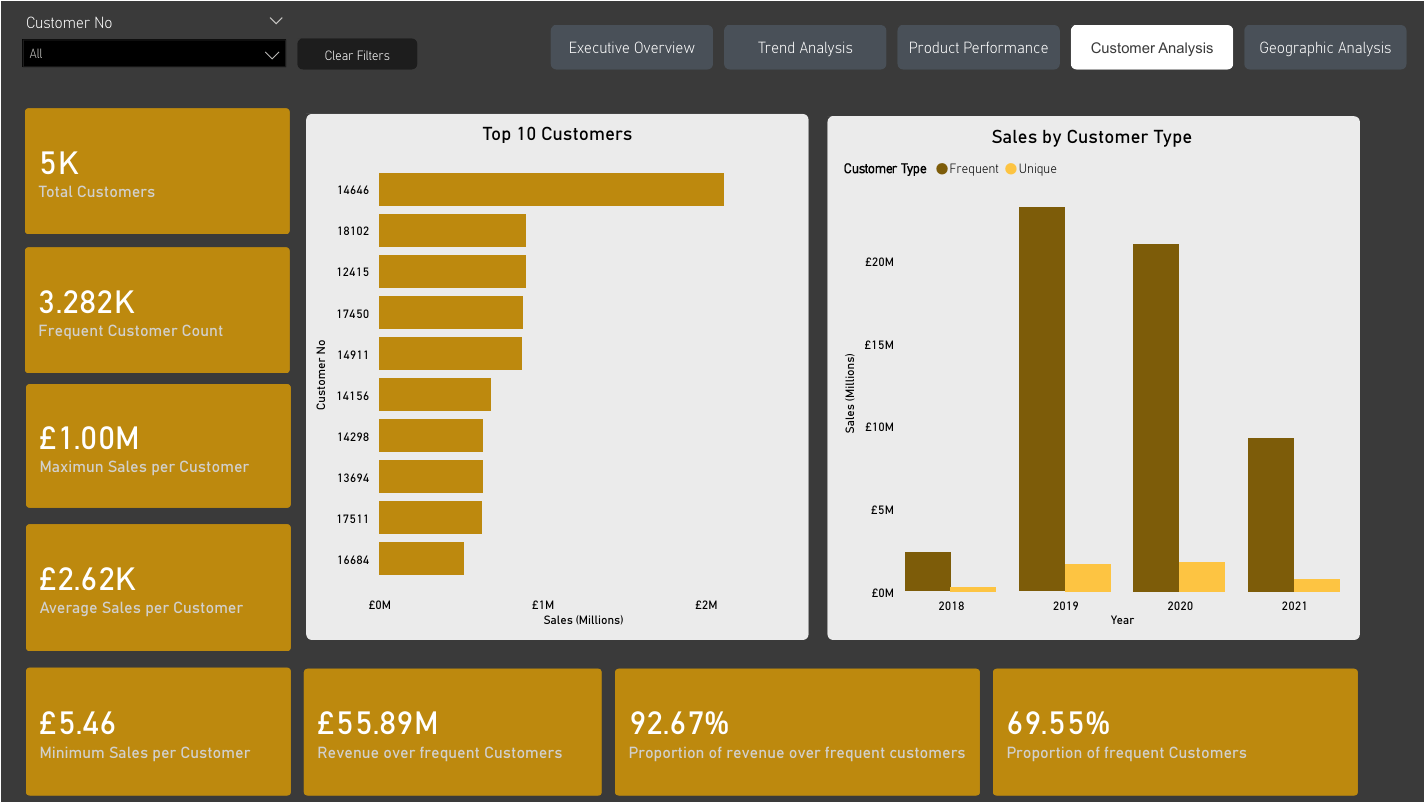

This screenshot's page, from the dashboard's own definition file:
{"tool":"powerbi","page":{"name":"Customer Analysis","canvas":[1280,720],"ordinal":3},"visuals":[{"type":"shape","box":[742.5,102.5,479.2,471.2],"z":0},{"type":"shape","box":[273.6,101.2,452.5,472.7],"z":1000},{"type":"cardVisual","fields":{"Data":["Date.Average Sales from Customer"]},"box":[16.2,463.8,250,126.2],"z":2000},{"type":"slicer","fields":{"Values":["Sales.CustomerNo"]},"box":[8.6,5.7,257.1,72.9],"z":3000},{"type":"cardVisual","fields":{"Data":["Date.Maximun Sales from Customer"]},"box":[16.2,337.5,250,123.8],"z":4000},{"type":"cardVisual","fields":{"Data":["Date.Minimum Sales per Customer"]},"box":[16.2,592.5,250,127.5],"z":5000},{"type":"cardVisual","fields":{"Data":["Date.Frequent Customer Count"]},"box":[15.4,215,249.4,124.7],"z":6000},{"type":"cardVisual","fields":{"Data":["Date.TotalCustomers"]},"box":[15.4,90.2,250,125],"z":7000},{"type":"cardVisual","fields":{"Data":["Date.Proportion of frequent Customers"]},"box":[886.2,593.8,340,126.2],"z":8000},{"type":"cardVisual","fields":{"Data":["Date.Revenue over frequent Customers"]},"box":[266,593.8,280.3,125.9],"z":9000},{"type":"cardVisual","fields":{"Data":["Date.Proportion of revenue over frequent customers"]},"box":[546.2,593.8,340,126.2],"z":10000},{"type":"ribbonChart","fields":{"Category":["Date.Date.Variation.Date Hierarchy.Year","Date.Date.Variation.Date Hierarchy.Quarter","Date.Date.Variation.Date Hierarchy.Month","Date.Date.Variation.Date Hierarchy.Day"],"Y":["Sum(Sales.Sales)"],"Series":["Customer.Customer Type"]},"box":[757.5,108.8,454.7,455],"z":11000},{"type":"clusteredBarChart","title":"Top 10 Customers","fields":{"Category":["Customer.CustomerNo"],"Y":["Sum(Sales.Sales)"]},"box":[277.2,108.3,445.4,458.4],"z":12000},{"type":"actionButton","box":[265.7,32.9,108.6,28.6],"z":13000},{"type":"pageNavigator","box":[493.8,21.2,770,40],"z":14000}]}

Visuals, with their boxes in screenshot pixels (x1, y1, x2, y2), scaled from the page's 1280x720 canvas onto the 1425x803 screenshot:
shape: crop(827, 114, 1360, 640)
shape: crop(305, 113, 808, 640)
cardVisual - Date.Average Sales from Customer: crop(18, 517, 296, 658)
slicer - Sales.CustomerNo: crop(10, 6, 296, 88)
cardVisual - Date.Maximun Sales from Customer: crop(18, 376, 296, 514)
cardVisual - Date.Minimum Sales per Customer: crop(18, 661, 296, 802)
cardVisual - Date.Frequent Customer Count: crop(17, 240, 295, 379)
cardVisual - Date.TotalCustomers: crop(17, 101, 295, 240)
cardVisual - Date.Proportion of frequent Customers: crop(987, 662, 1365, 802)
cardVisual - Date.Revenue over frequent Customers: crop(296, 662, 608, 802)
cardVisual - Date.Proportion of revenue over frequent customers: crop(608, 662, 987, 802)
ribbonChart - Date.Date.Variation.Date Hierarchy.Year x Date.Date.Variation.Date Hierarchy.Quarter: crop(843, 121, 1350, 629)
"Top 10 Customers" clusteredBarChart: crop(309, 121, 804, 632)
actionButton: crop(296, 37, 417, 69)
pageNavigator: crop(550, 24, 1407, 68)
